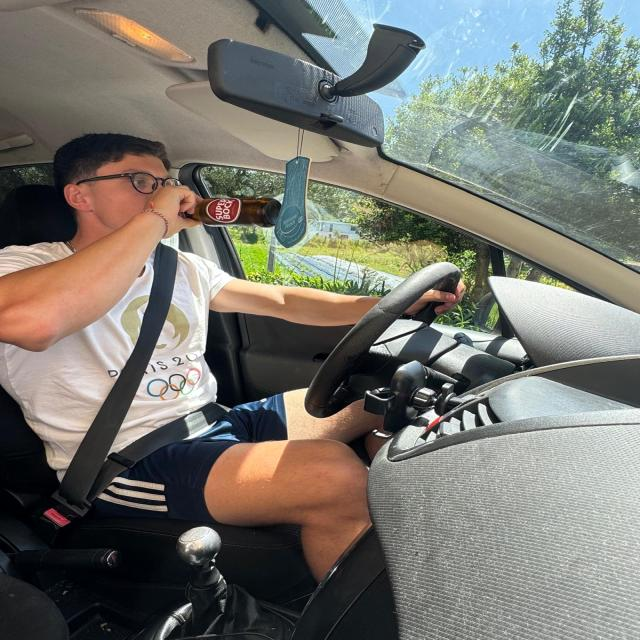Drinking: (149, 177, 307, 246)
Seatbelt: (58, 233, 298, 524)
